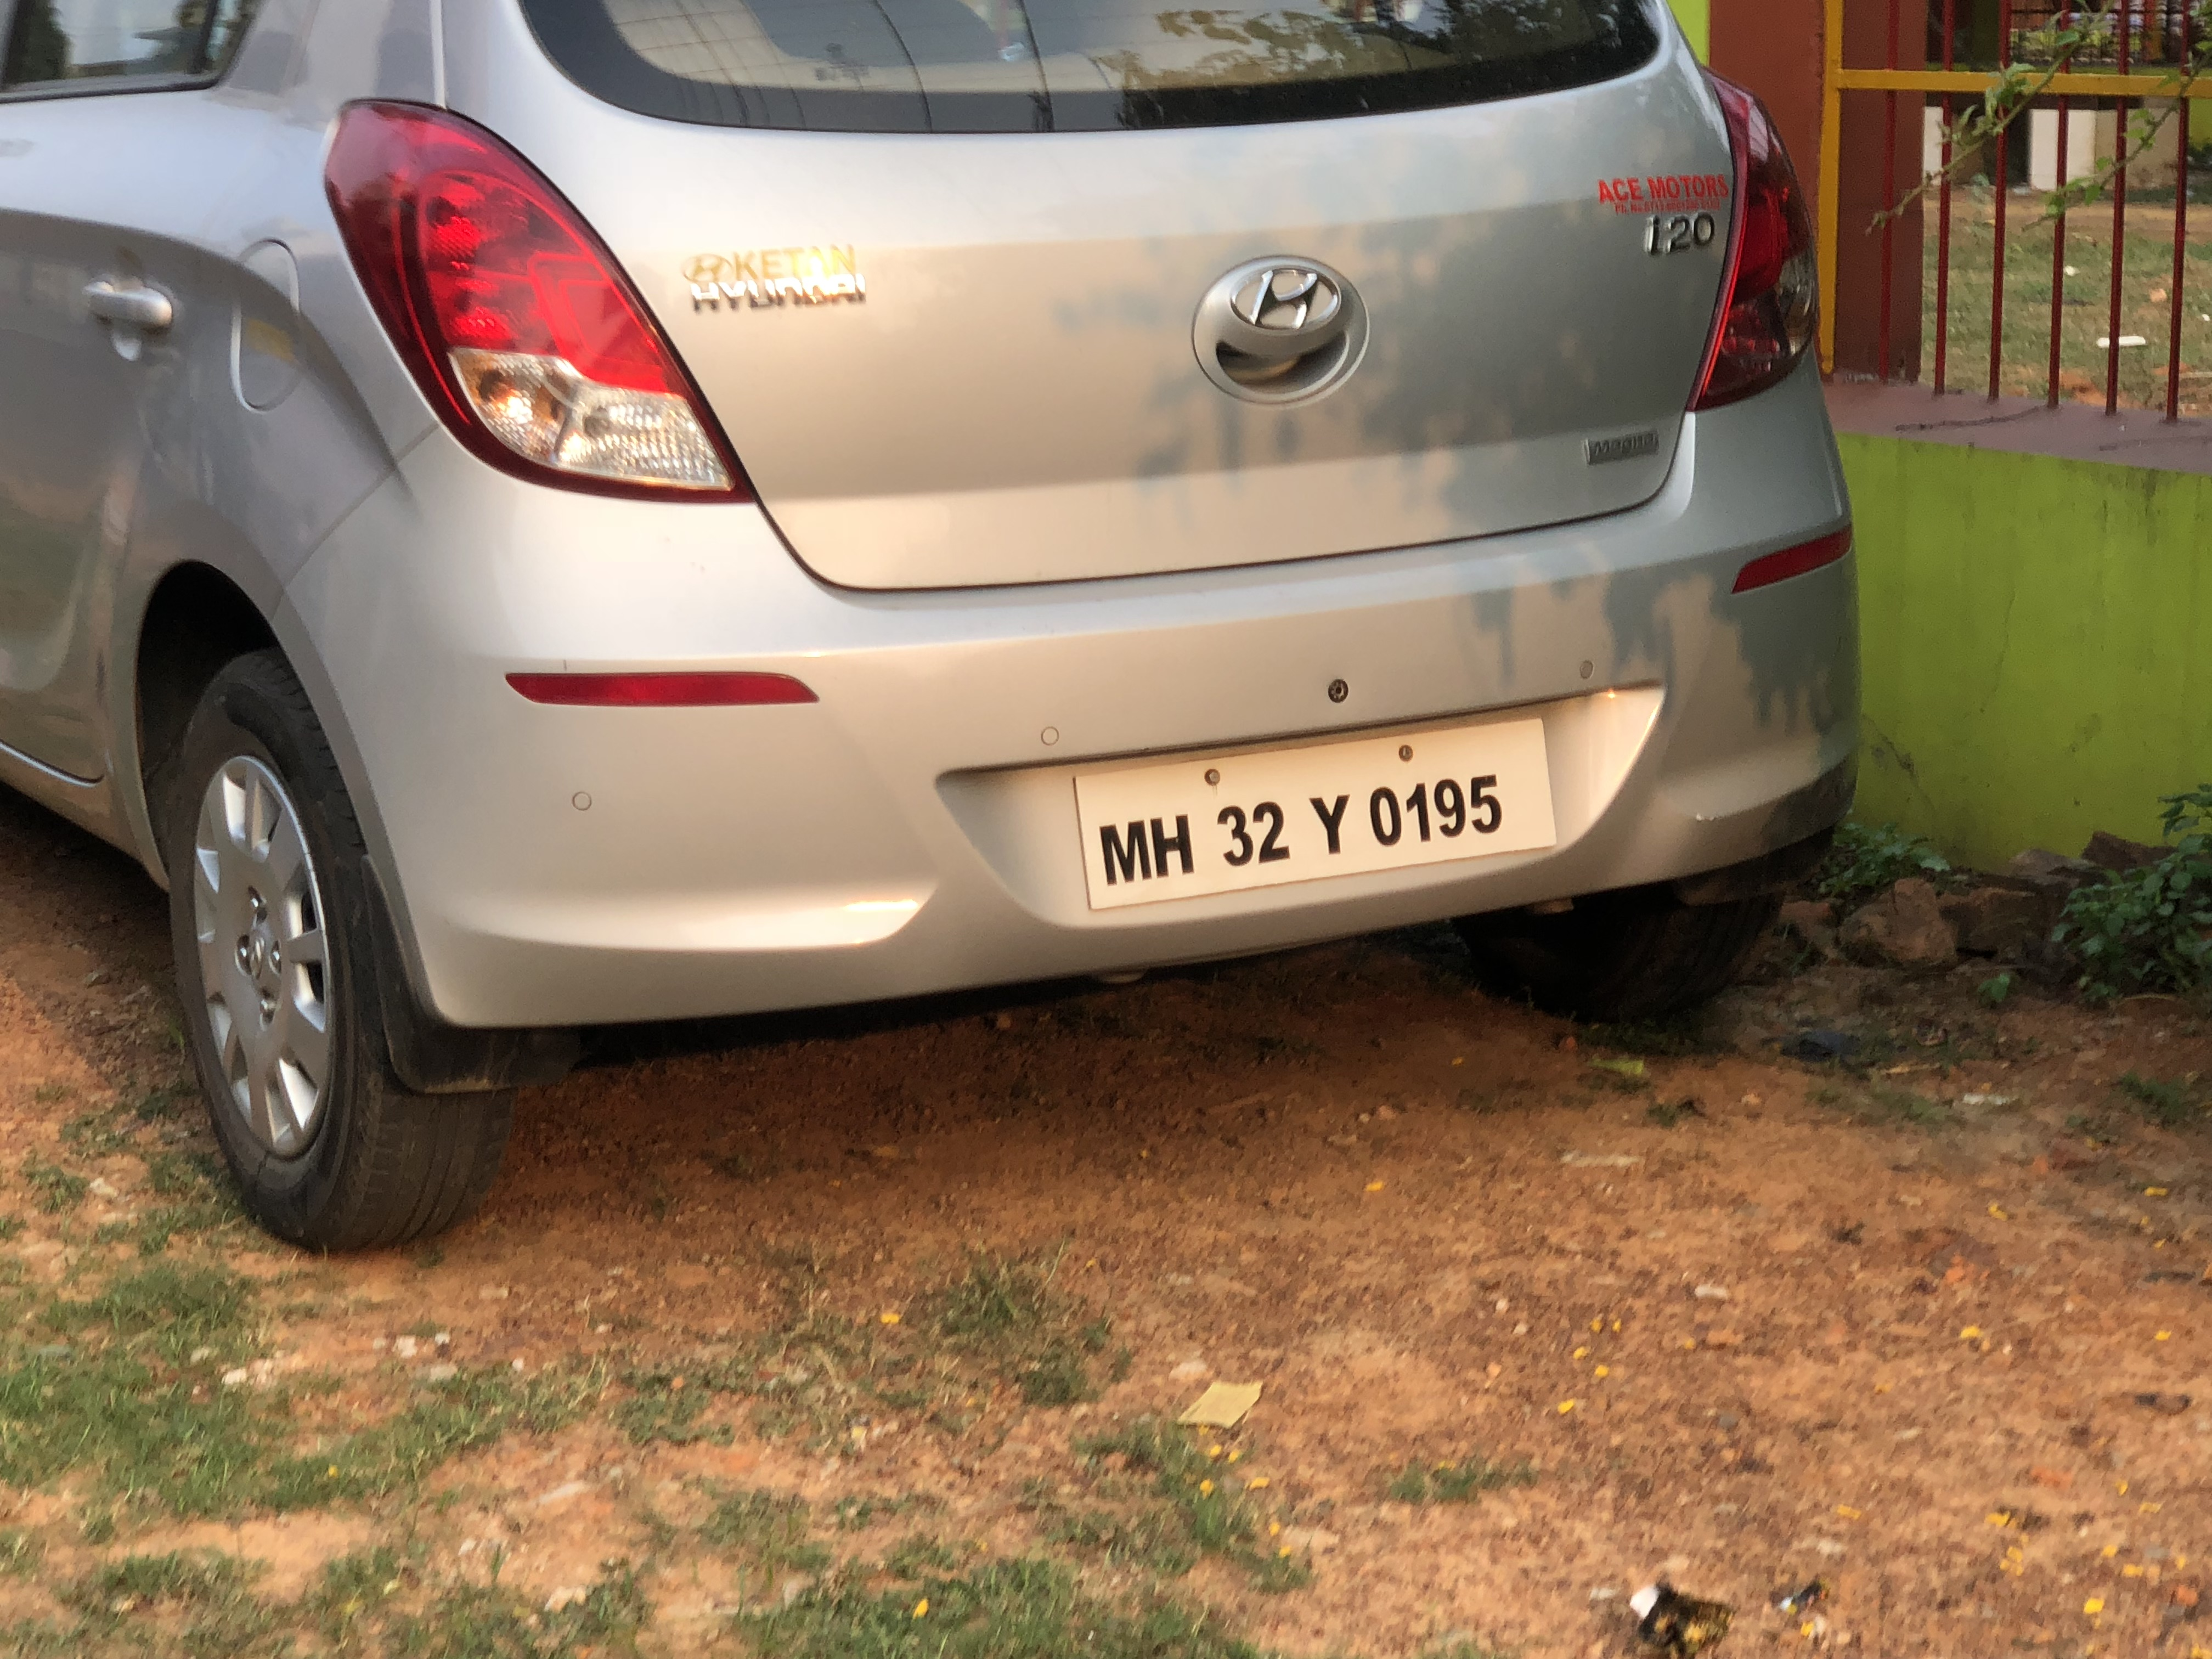licenseplate: (1037, 713, 1576, 905)
